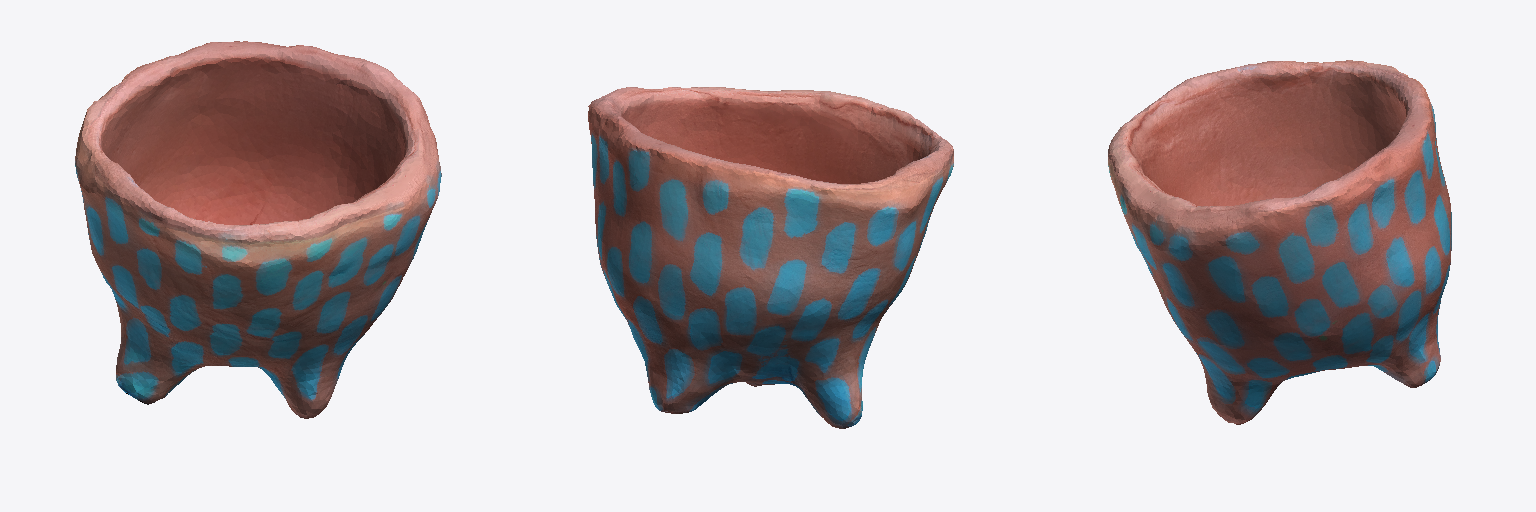
3 views of the same model, side by side, from view 1: azimuth 30°, elevation 25°; view 2: azimuth 150°, elevation 25°; view 3: azimuth 270°, elevation 25° (orthographic).
Size of the model in its own units: 5.59 by 5.09 by 5.21.
1 materials, 1 textured.